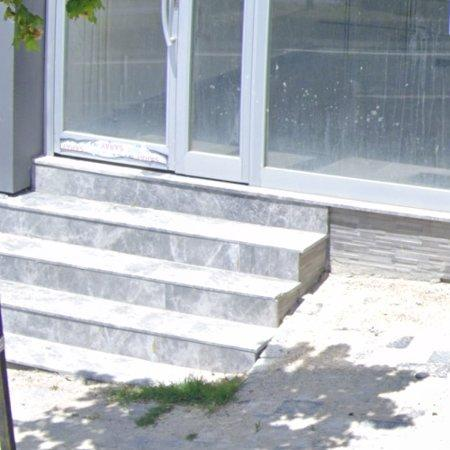stairs: (0, 157, 328, 382)
